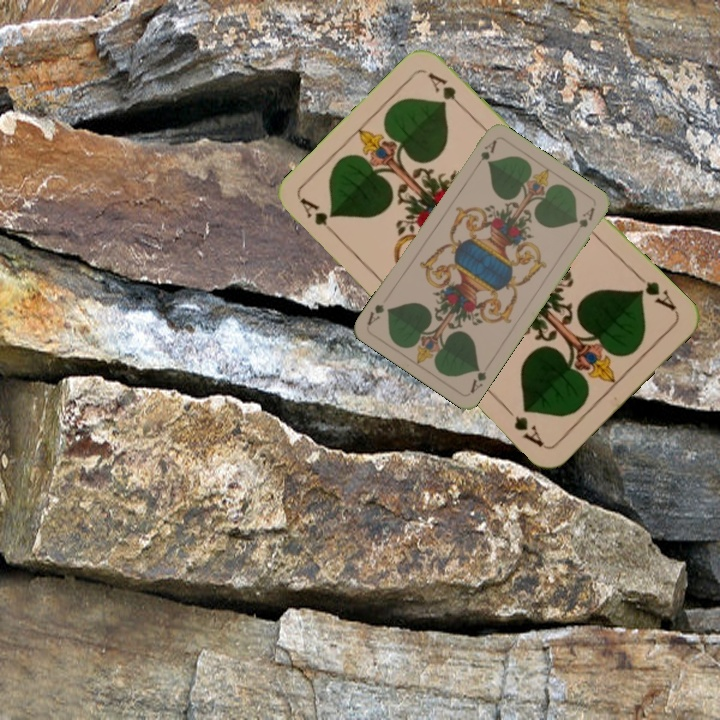GA: (296, 194, 343, 242), (632, 270, 679, 314), (466, 363, 489, 396), (476, 136, 499, 163)
